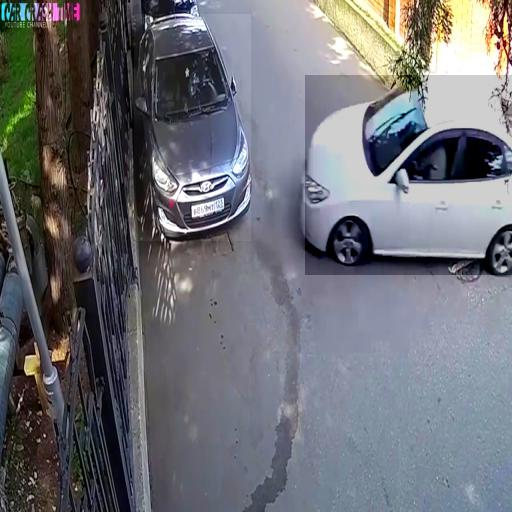小汽车: (305, 75, 512, 275), (134, 14, 251, 241)
